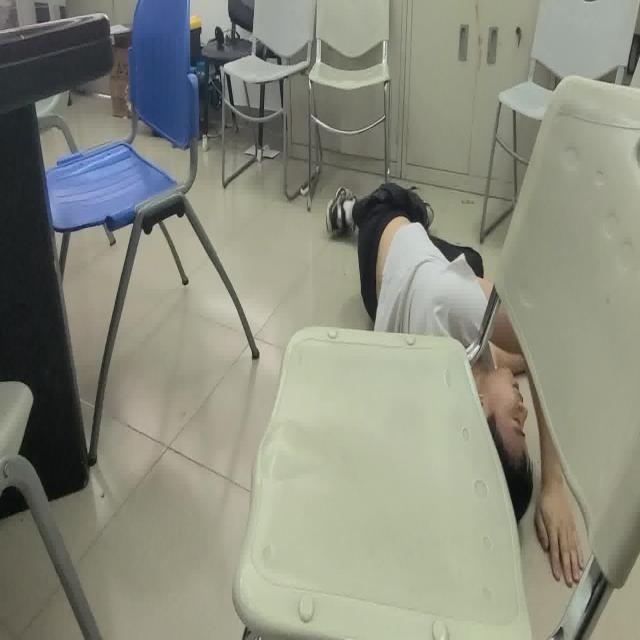Fall-Detected: (325, 176, 585, 594)
